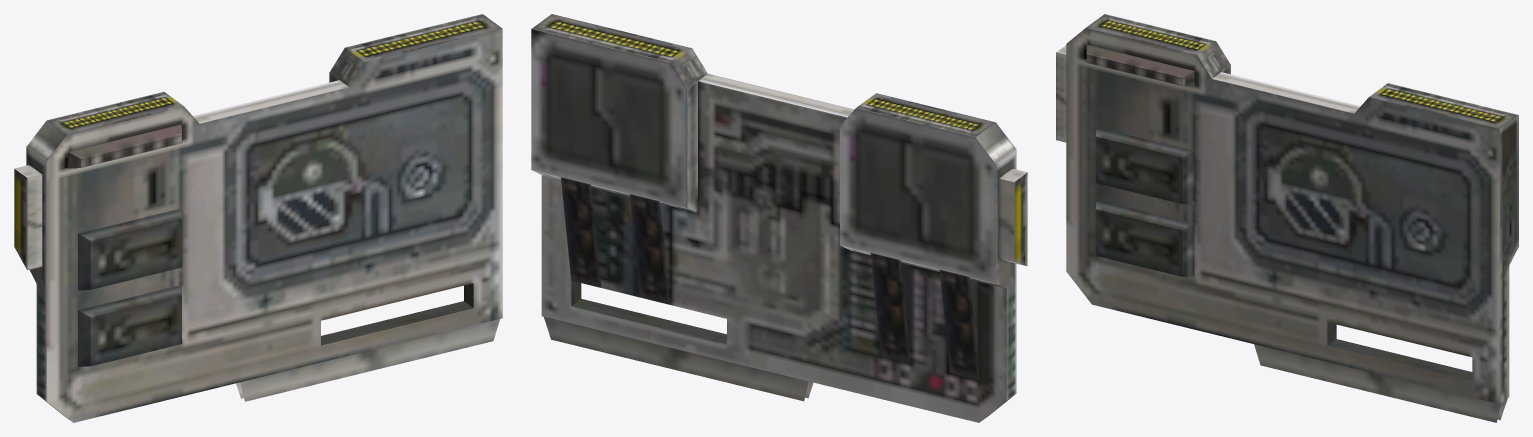
Rendered from eqp_circuit_board_s01_l1.fbx.
The picture shows the model from 3 angles, left to right: view 1: azimuth 30°, elevation 25°; view 2: azimuth 150°, elevation 25°; view 3: azimuth 330°, elevation 25°; orthographic projection. The views are drawn at different scales.
Parts seen in each view (by area): view 1: mesh_node; view 2: mesh_node; view 3: mesh_node.
Part boxes in pixels (x1,y1,x2,y2): mesh_node: [14, 14, 502, 422]; mesh_node: [531, 14, 1027, 422]; mesh_node: [1056, 14, 1518, 422].
Size of the model in its own units: 0.3201 by 0.2032 by 0.0314.
1 material, 1 textured.
